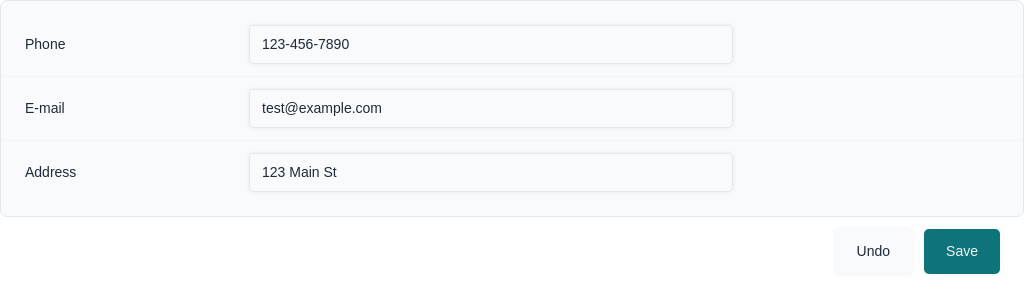
UpdateSettingsForm › restores original values when undo is clicked
Replace the text in the field showing "123-456-7890" with "555-123-4567": (491, 44) [249,25,733,64]
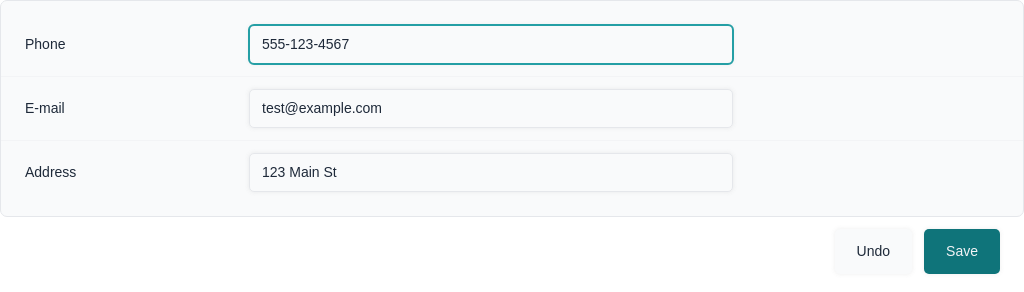
Replace the text in the field showing "test@example.com" with "newemail@example.com": (491, 108) [249,89,733,128]
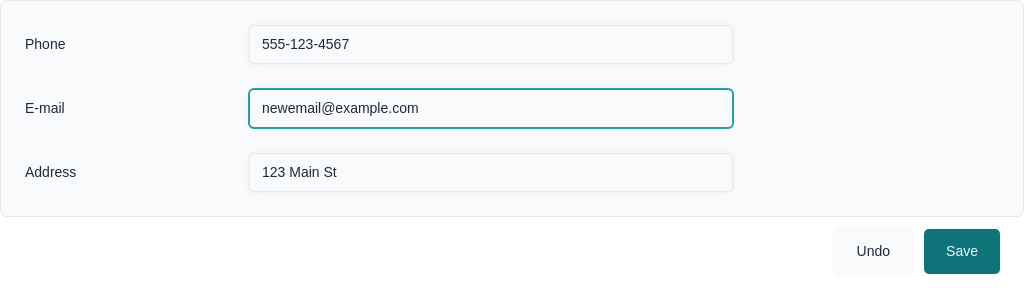
Click the button "Undo": (873, 252) [835,229,912,274]
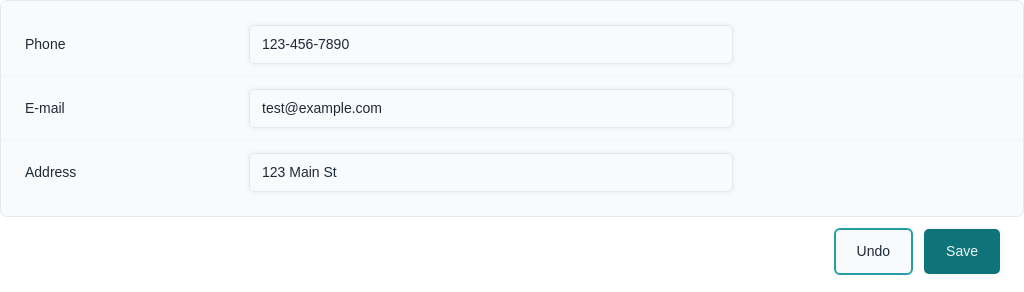
expect the field showing "123-456-7890" is shown: met, box [249,25,733,64]
expect the field showing "test@example.com" is shown: met, box [249,89,733,128]
